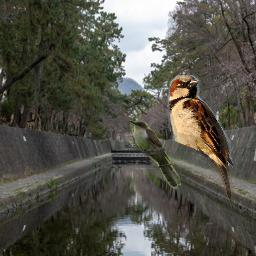Cuckoo: (128, 119, 181, 189)
Swallow: (167, 75, 233, 203)
